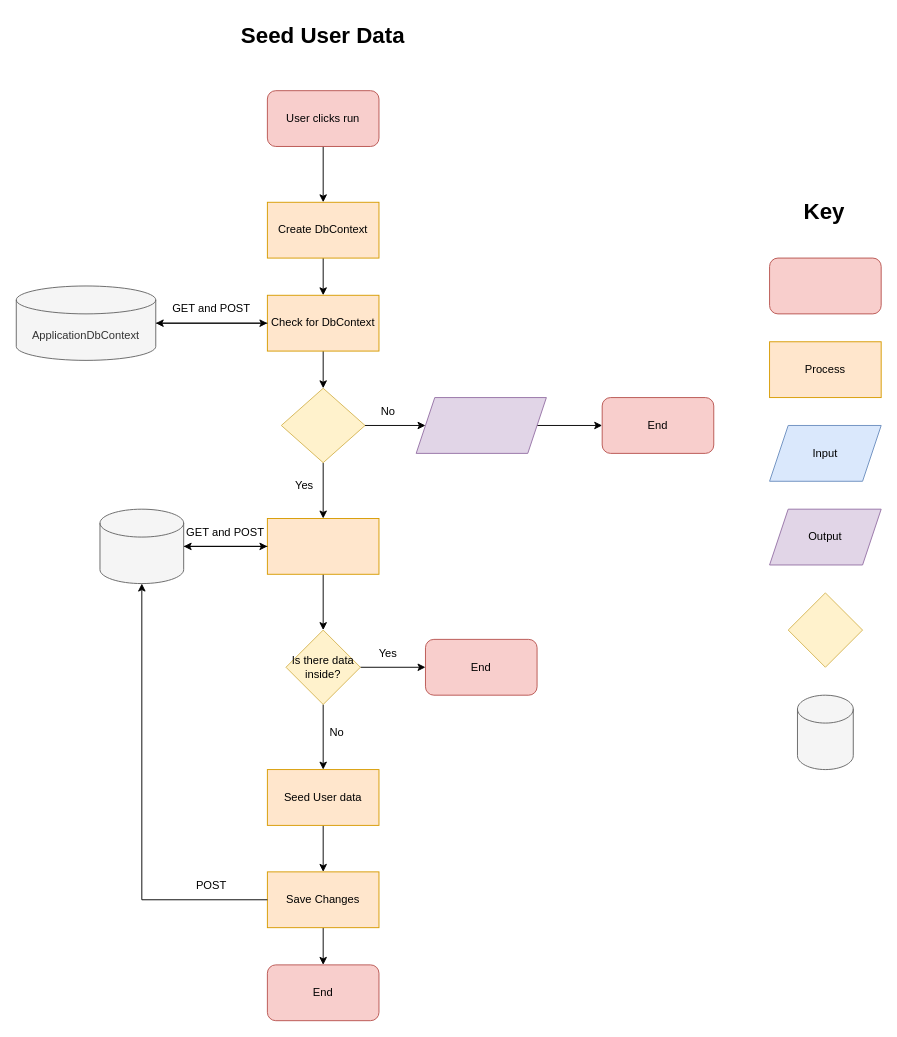
This 897x1037 diagram has some shape labels left out. Here are the shapes that lost their labels. From the top down, the centre of each, then its label:
At (x=825, y=285): "Start/End".
At (x=322, y=425): "Does context exist?".
At (x=480, y=425): "Output error message database don't exist".
At (x=141, y=546): "Asp.net Identity".
At (x=322, y=546): "Check Asp.net identity".
At (x=825, y=629): "Decision".
At (x=825, y=732): "Database".
